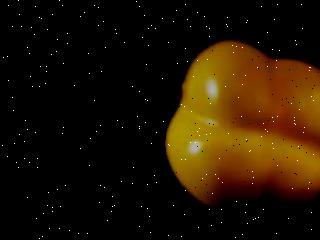Capsicum: (163, 38, 320, 210)
